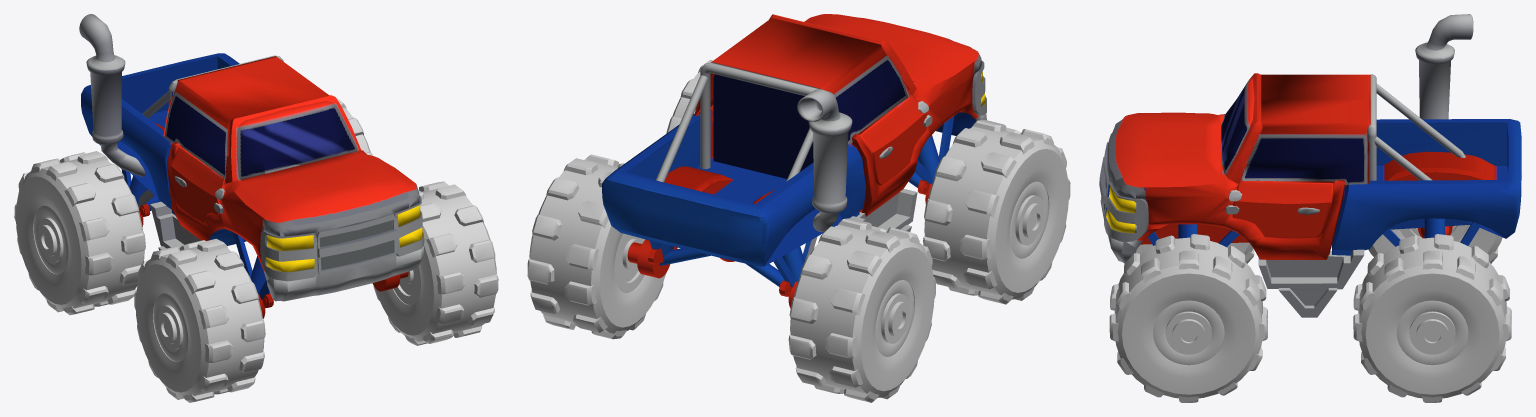
File: car3.fbx
3 renders of one model, left to right at view 1: azimuth 30°, elevation 25°; view 2: azimuth 150°, elevation 25°; view 3: azimuth 270°, elevation 25°, orthographic. The views are drawn at different scales.
Visible parts, largest first — view 1: polySurface315, polySurface322, polySurface314, polySurface320, polySurface316, polySurface312, polySurface321, polySurface308, polySurface304, polySurface306, polySurface317, polySurface307 (+2 smaller); view 2: polySurface314, polySurface322, polySurface321, polySurface313, polySurface316, polySurface315, polySurface309, polySurface304, polySurface319, polySurface307, polySurface317, polySurface306 (+2 smaller); view 3: polySurface313, polySurface320, polySurface316, polySurface321, polySurface315, polySurface318, polySurface304, polySurface312, polySurface319, polySurface308, polySurface314, polySurface307 (+4 smaller).
Boxes of the visible parts, x1,y1,x2,y2 form: polySurface315: (166, 95, 424, 301); polySurface322: (134, 238, 265, 402); polySurface314: (14, 151, 145, 315); polySurface320: (373, 181, 498, 345); polySurface316: (163, 56, 328, 223); polySurface312: (260, 195, 424, 281); polySurface321: (81, 53, 239, 215); polySurface308: (237, 101, 357, 179); polySurface304: (79, 14, 145, 176); polySurface306: (232, 232, 408, 318); polySurface317: (150, 201, 200, 250); polySurface307: (121, 169, 160, 226); polySurface314: (788, 218, 935, 402); polySurface322: (923, 120, 1070, 304); polySurface321: (602, 110, 866, 266); polySurface313: (527, 154, 666, 339); polySurface316: (694, 18, 932, 185); polySurface315: (769, 14, 986, 216); polySurface309: (713, 74, 813, 178); polySurface304: (797, 89, 852, 232); polySurface319: (656, 63, 818, 182); polySurface307: (627, 237, 817, 308); polySurface317: (837, 189, 917, 231); polySurface306: (908, 116, 954, 203); polySurface313: (1353, 234, 1511, 402); polySurface320: (1109, 234, 1267, 402); polySurface316: (1226, 74, 1370, 238); polySurface321: (1332, 119, 1521, 255); polySurface315: (1104, 73, 1344, 263); polySurface318: (1258, 249, 1364, 317); polySurface304: (1415, 14, 1473, 119); polySurface312: (1099, 142, 1148, 241); polySurface319: (1367, 74, 1465, 180); polySurface308: (1221, 79, 1254, 173); polySurface314: (1368, 225, 1502, 263); polySurface307: (1383, 218, 1480, 246).
Bounding box in the file's own units: 358 × 304 × 426.
